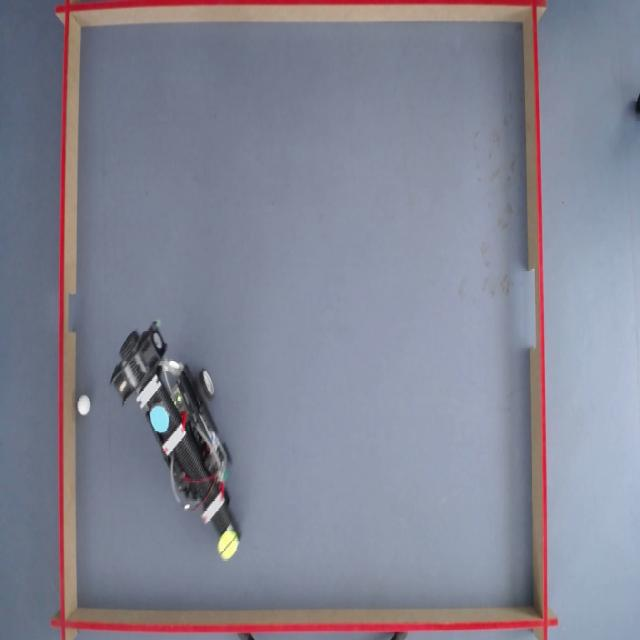robot: (110, 322, 242, 564)
robot-front: (218, 530, 240, 561)
robot-rear: (148, 402, 173, 440)
white: (77, 396, 91, 417)
